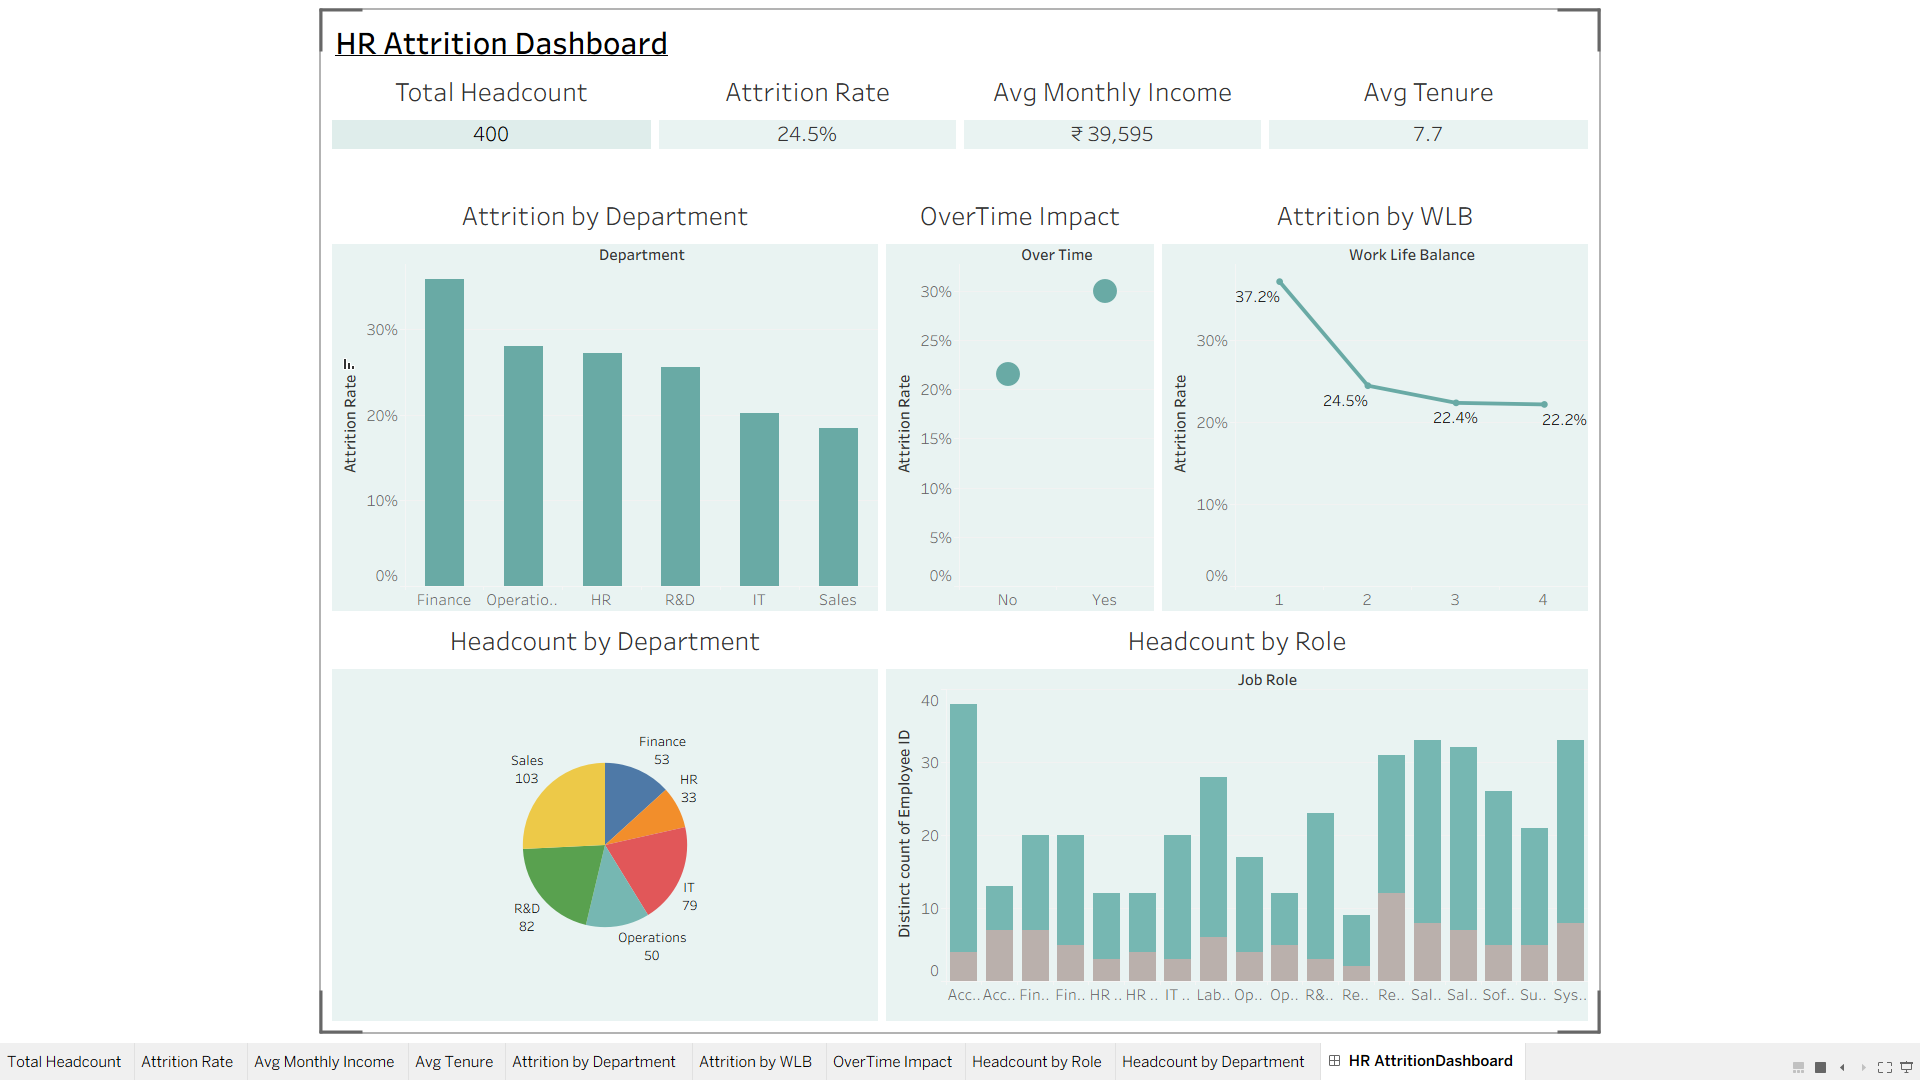

What the dashboard file says about the page in this screenshot:
{"tool":"tableau","page":{"name":" HR AttritionDashboard ","canvas":[650,860],"ordinal":0},"visuals":[{"type":"worksheet","title":"Total Headcount","mark":"Automatic","box":[8,8,115.1,257]},{"type":"worksheet","title":"Attrition Rate","mark":"Automatic","box":[123.1,8,188.4,257]},{"type":"worksheet","title":"Avg Monthly Income","mark":"Automatic","box":[311.5,8,66.5,844]},{"type":"worksheet","title":"Avg Tenure","mark":"Automatic","box":[378.1,8,103.9,422]},{"type":"legend","title":"Headcount by Role","param":"[federated.12krcxc01yzigc13w5pk1100uxp6].[none:Attrition:nk]","box":[482,8,160,72]},{"type":"legend","title":"Headcount by Department","param":"[federated.12krcxc01yzigc13w5pk1100uxp6].[none:Department:nk]","box":[482,80,160,156]},{"type":"worksheet","title":"Headcount by Department","mark":"Pie","box":[482,236,160,309]},{"type":"worksheet","title":"Attrition by Department","mark":"Automatic","rows":["Calculation_0564634097786880"],"cols":["Department"],"box":[8,265,115.1,587]},{"type":"worksheet","title":"Attrition by WLB","mark":"Line","rows":["Calculation_0564634097786880"],"cols":["WorkLifeBalance"],"box":[123.1,265,188.4,587]},{"type":"worksheet","title":"OverTime Impact","mark":"Circle","rows":["Calculation_0564634097786880"],"cols":["OverTime"],"box":[378.1,430,103.9,422]},{"type":"worksheet","title":"Headcount by Role","mark":"Automatic","rows":["EmployeeID"],"cols":["JobRole"],"box":[482,545,160,307]}]}

Visuals, with their boxes on the page's 650x860 design canvas (x1, y1, x2, y2). These are canvas units, not pixel positions in the 1920x1080 screenshot, which may show the page scaled, cropped or inside an application window:
"Total Headcount" worksheet: 8:8:123:265
"Attrition Rate" worksheet: 123:8:312:265
"Avg Monthly Income" worksheet: 312:8:378:852
"Avg Tenure" worksheet: 378:8:482:430
"Headcount by Role" legend: 482:8:642:80
"Headcount by Department" legend: 482:80:642:236
"Headcount by Department" worksheet (Pie marks): 482:236:642:545
"Attrition by Department" worksheet: 8:265:123:852
"Attrition by WLB" worksheet (Line marks): 123:265:312:852
"OverTime Impact" worksheet (Circle marks): 378:430:482:852
"Headcount by Role" worksheet: 482:545:642:852
